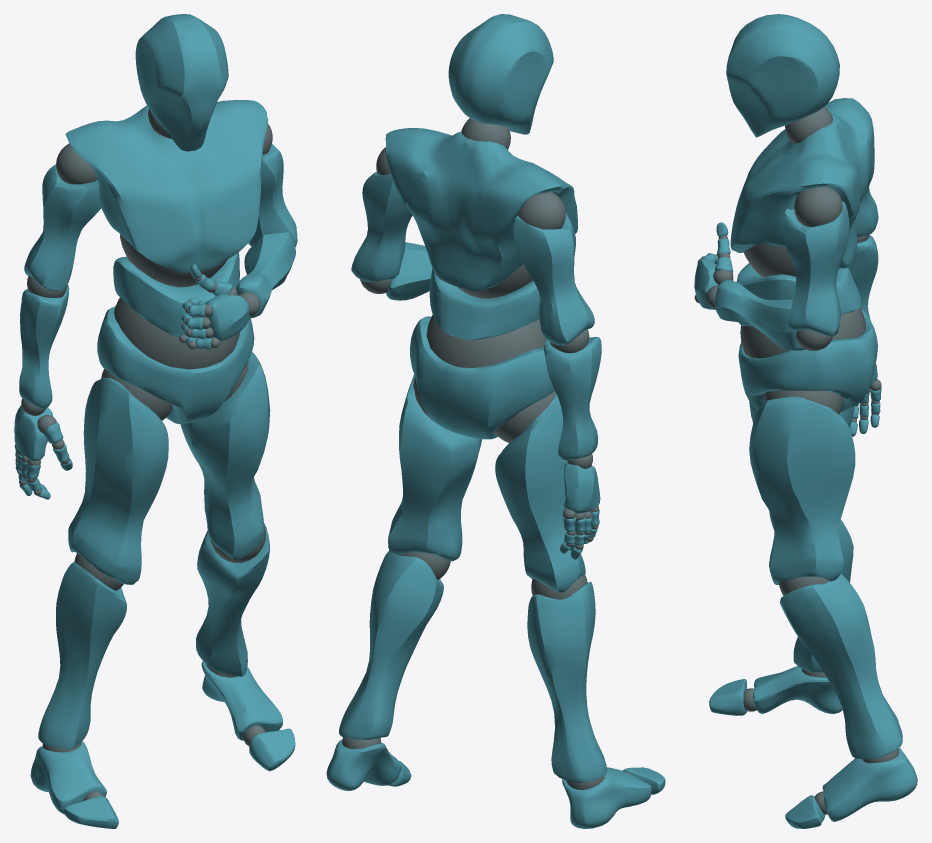
The picture shows the model from 3 angles, left to right: view 1: azimuth 30°, elevation 25°; view 2: azimuth 150°, elevation 25°; view 3: azimuth 270°, elevation 25°; orthographic projection. The views are drawn at different scales.
Visible parts, largest first — view 1: Alpha_Surface, Alpha_Joints; view 2: Alpha_Surface, Alpha_Joints; view 3: Alpha_Surface, Alpha_Joints.
Boxes of the visible parts, <box> form: Alpha_Surface: <box>14,14,297,828</box>; Alpha_Joints: <box>15,109,272,800</box>; Alpha_Surface: <box>326,14,665,828</box>; Alpha_Joints: <box>342,118,631,789</box>; Alpha_Surface: <box>694,14,917,828</box>; Alpha_Joints: <box>694,106,899,814</box>.
Size of the model in its own units: 0.6459 by 1.81 by 0.4819.
